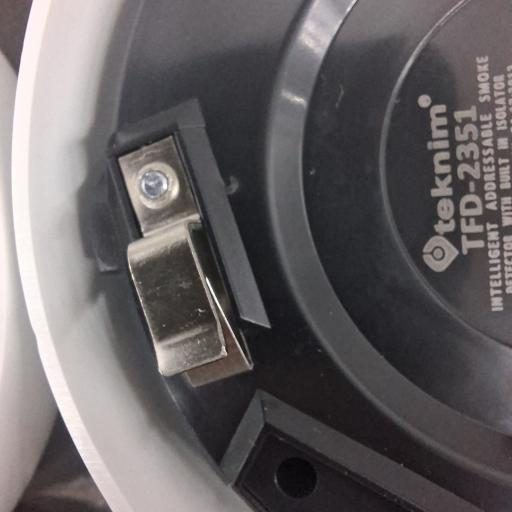yayli: (115, 133, 252, 384)
